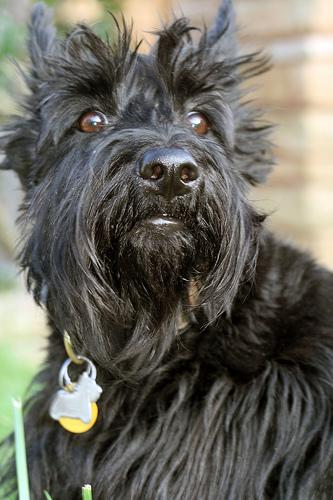dog-scottish_terrier: (28, 0, 240, 271)
